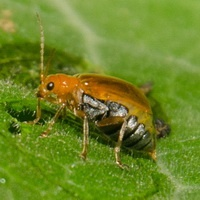insect: (27, 15, 169, 167)
